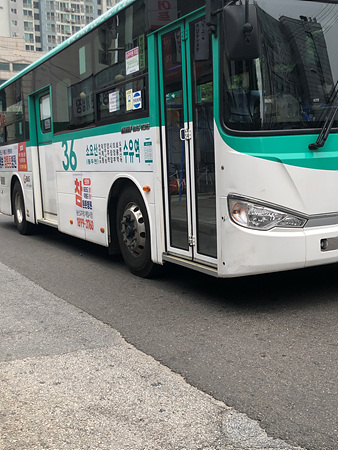entrance: (152, 10, 224, 273)
